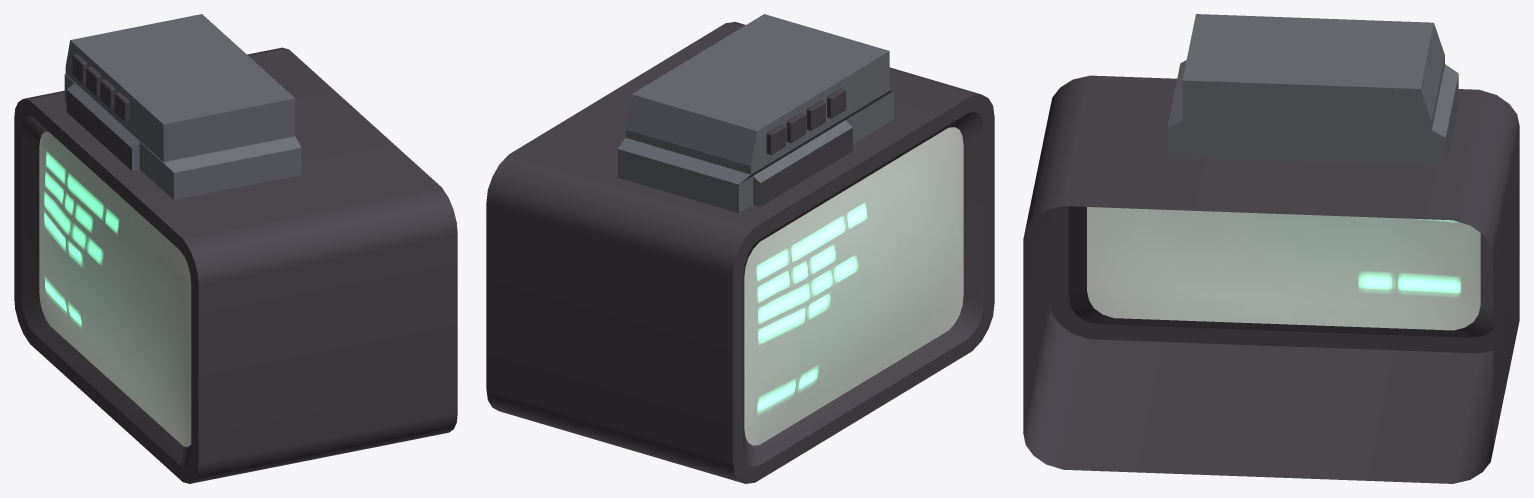
File: MiniMonitor.fbx
3 views of the same model, side by side, from view 1: azimuth 30°, elevation 25°; view 2: azimuth 150°, elevation 25°; view 3: azimuth 270°, elevation 25° (orthographic). The views are drawn at different scales.
Parts seen in each view (by area): view 1: polySurface49752_Computers02_0, polySurface49752_Computers03_0; view 2: polySurface49752_Computers02_0, polySurface49752_Computers03_0; view 3: polySurface49752_Computers02_0, polySurface49752_Computers03_0.
Part boxes in pixels (left/top/right/bottom): polySurface49752_Computers02_0: left=14, top=14, right=457, bottom=483; polySurface49752_Computers03_0: left=39, top=131, right=191, bottom=447; polySurface49752_Computers02_0: left=486, top=14, right=994, bottom=483; polySurface49752_Computers03_0: left=744, top=127, right=963, bottom=445; polySurface49752_Computers02_0: left=1023, top=14, right=1519, bottom=483; polySurface49752_Computers03_0: left=1087, top=207, right=1480, bottom=330.
Bounding box in the file's own units: 221 × 238 × 314.
